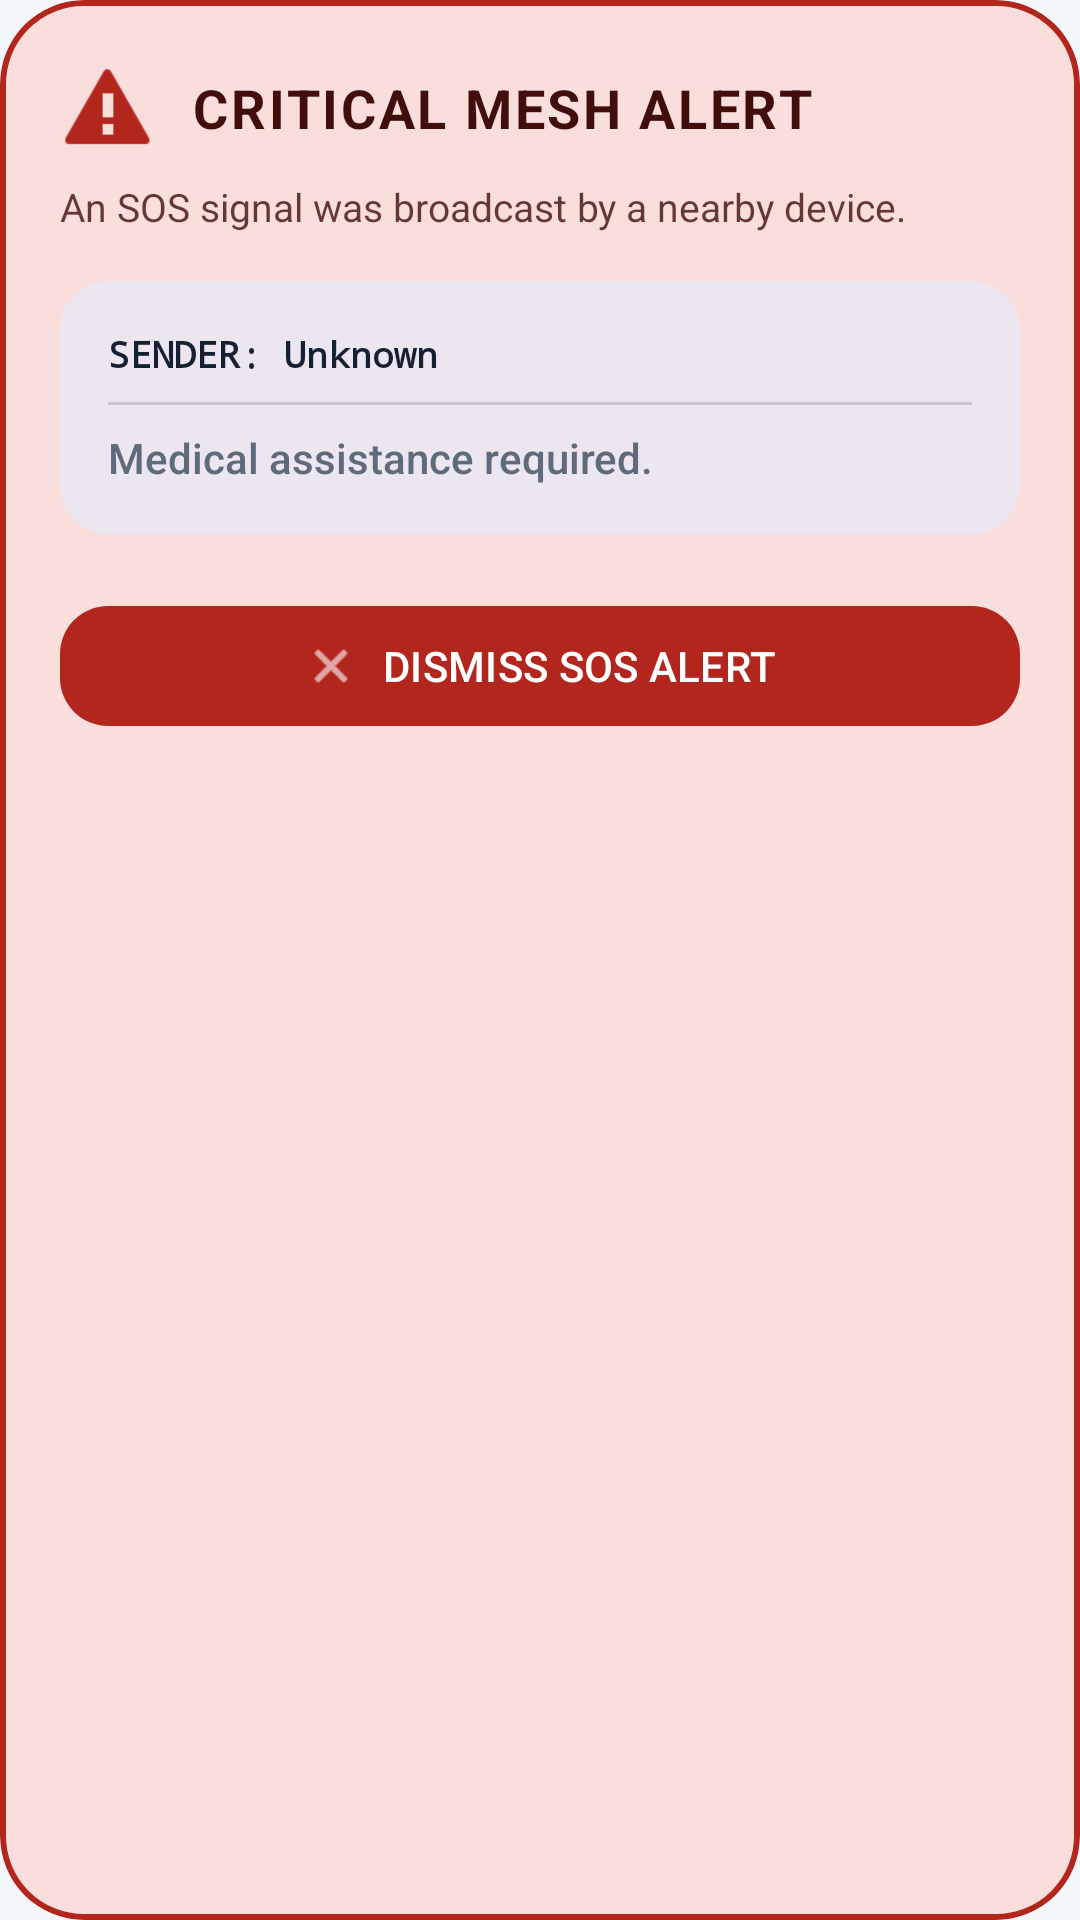

Icon click points for this 1080px×1920px phone screenshot, format [x,y]:
Emergency Warning Icon: [107,106]
